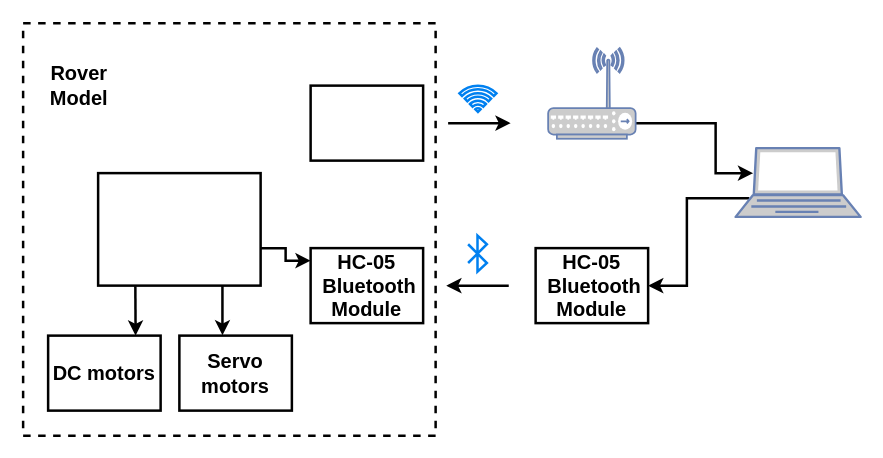
The diagram is 883 pixels wide and 458 high, and some of its shapes have lost their labels. The shapes that lost their labels are listed below. From the top down, each one's centre as x and y in pixels, then its label:
At [366,122]: "IP Camera".
At [178,228]: "Altera CPLD MAXII Main Controller".
